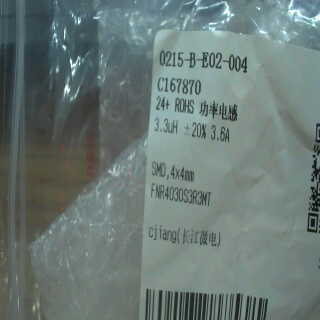3.3uH: (147, 112, 180, 138)
